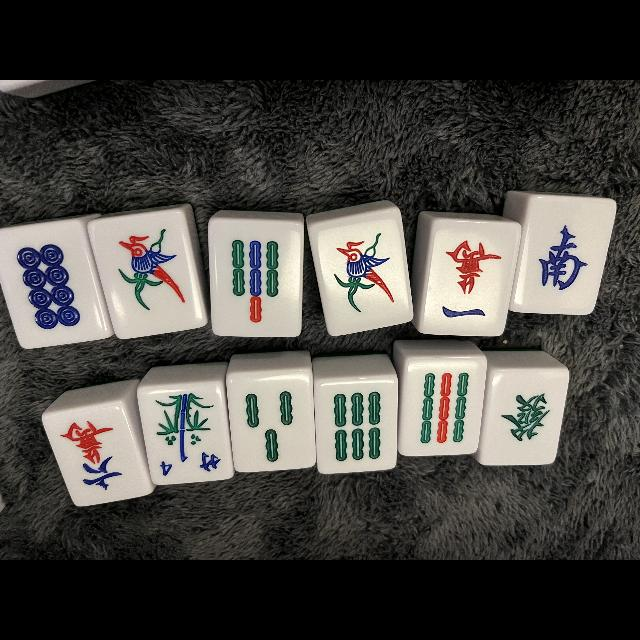b1: (102, 215, 192, 332), (321, 215, 404, 329)
b3: (232, 373, 310, 471)
b6: (316, 379, 394, 471)
b7: (210, 222, 300, 334)
b9: (404, 361, 478, 453)
c1: (428, 222, 508, 334)
c6: (58, 406, 134, 499)
d8: (5, 225, 90, 348)
dg: (488, 370, 560, 466)
f4: (150, 448, 228, 482)
ws: (526, 200, 602, 312)
